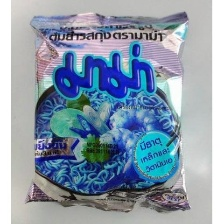snack: (18, 4, 196, 217)
